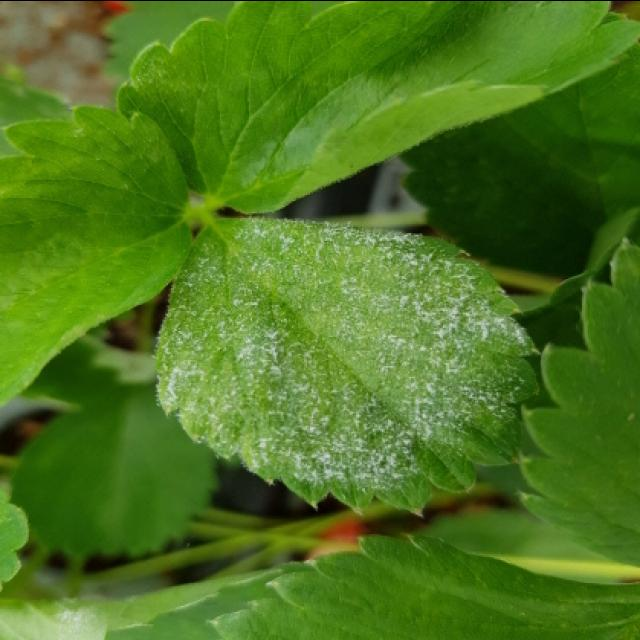Powdery Mildew Leaf: (154, 216, 541, 516), (0, 559, 317, 638)
